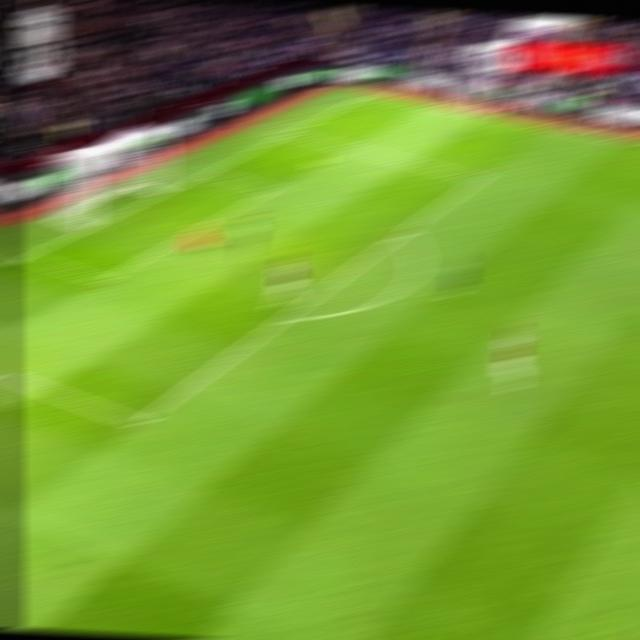bigarea_bottom_inner: (123, 408, 154, 434)
bigarea_top_inner: (466, 168, 494, 185)
bigarea_top_outter: (275, 126, 301, 138)
bottom_arc_area_intersection: (268, 307, 297, 327)
corner: (359, 86, 386, 97)
smallarea_bottom_inner: (87, 266, 118, 289)
smallarea_bottom_outter: (15, 245, 43, 264)
smallarea_top_inner: (258, 181, 285, 195)
smallarea_top_outter: (196, 162, 224, 179)
top_arc_area_intersection: (389, 224, 416, 239)
